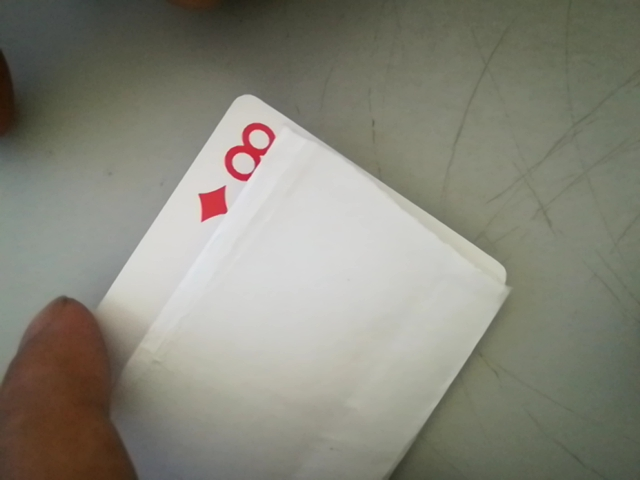fk 8: (191, 108, 290, 230)
